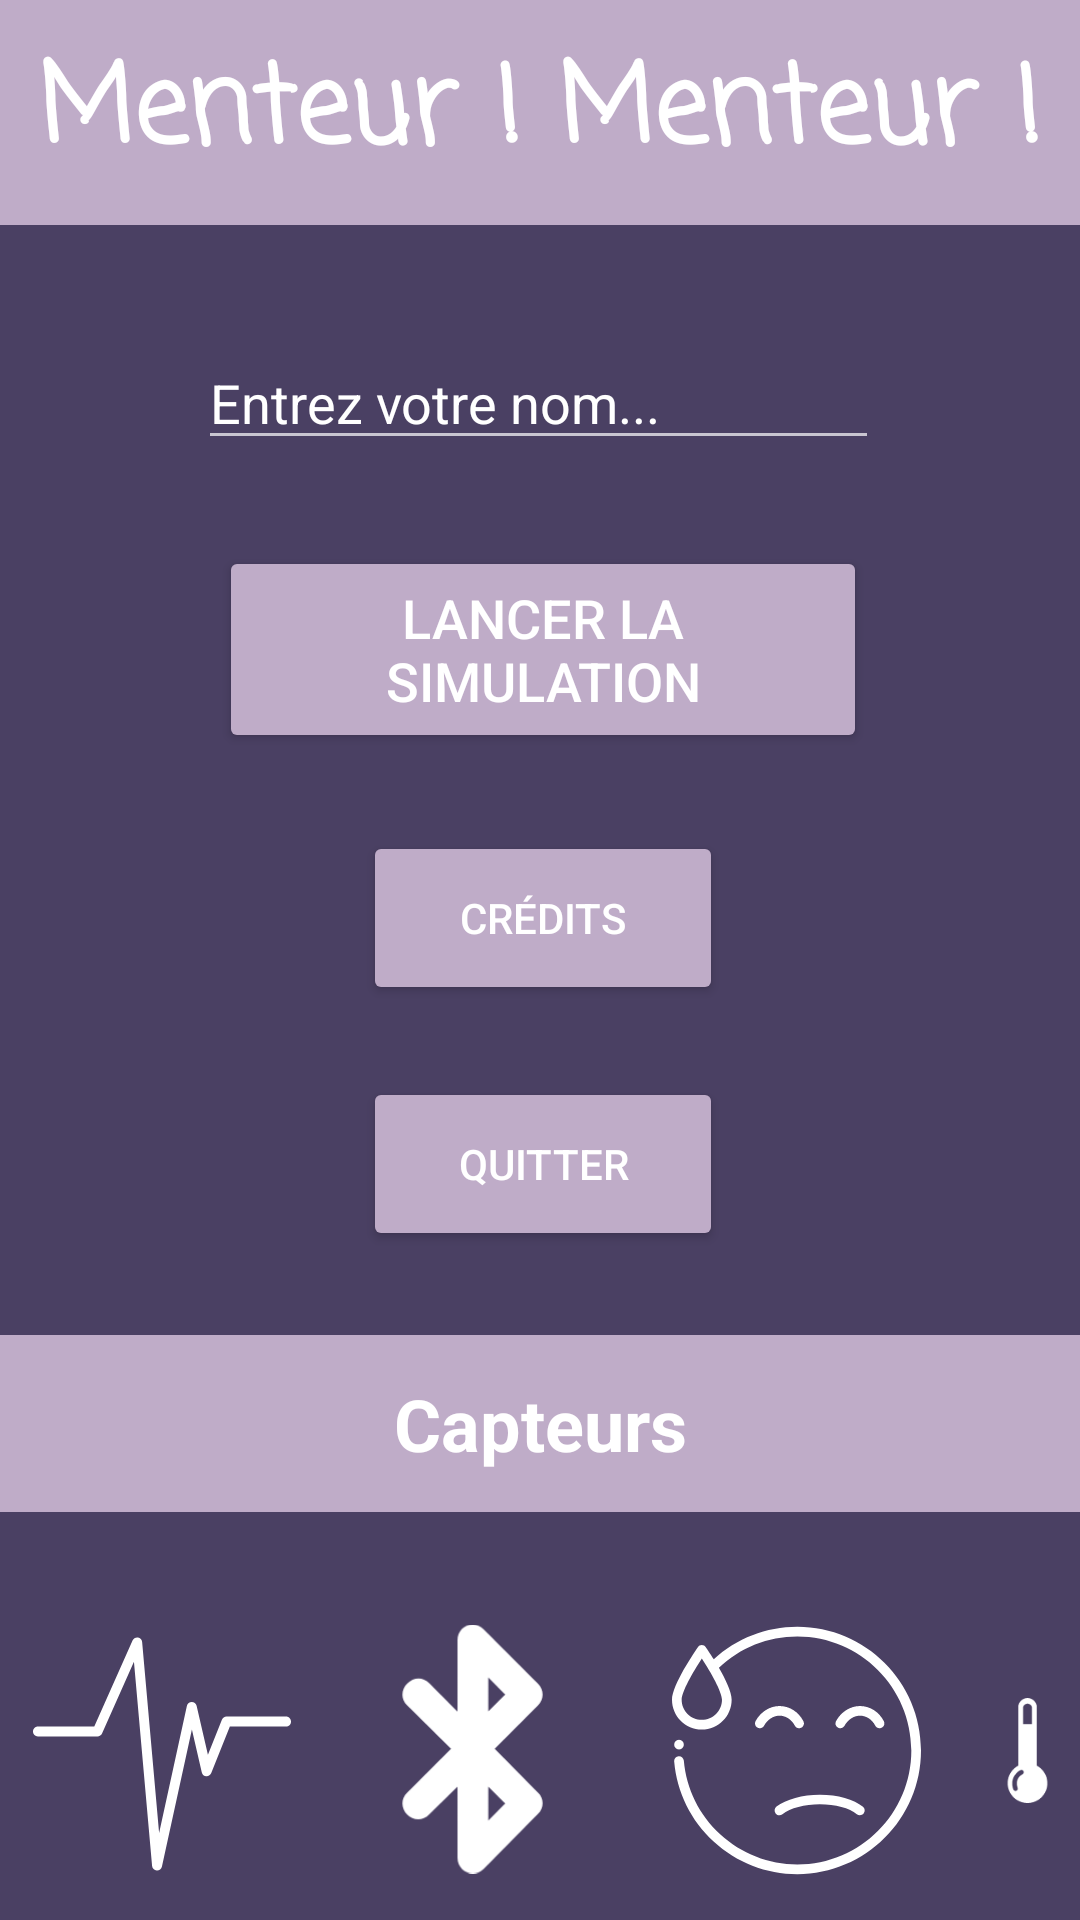

Icons on this 1080 × 1920 Android screen, each with the point to tap as (x,y):
heartbeat: (162,1754)
temperature: (1027,1750)
